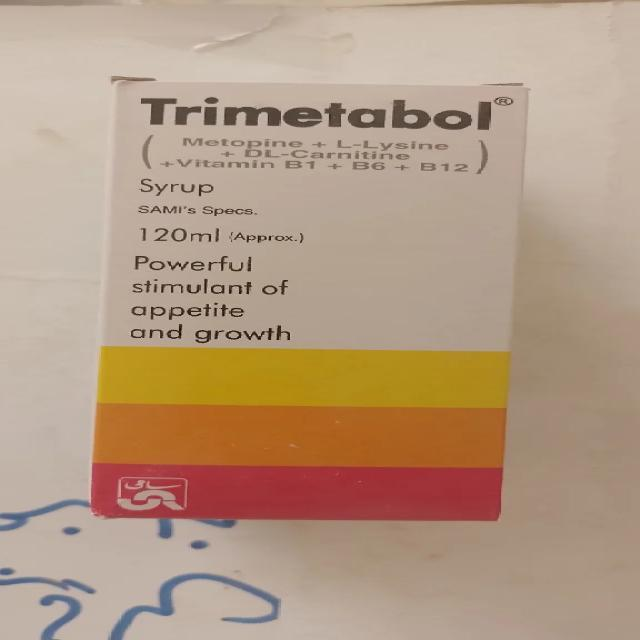drug-name: (137, 93, 497, 132)
